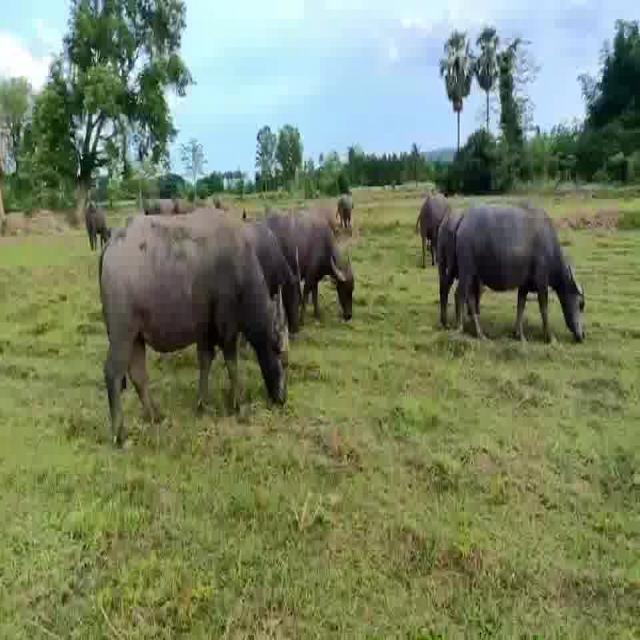buffalo: (97, 202, 291, 409), (432, 188, 601, 342), (278, 198, 359, 322)
